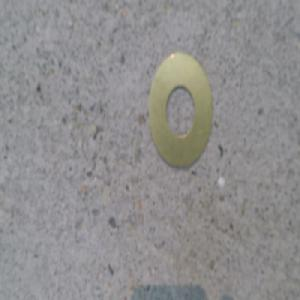Washer: (148, 51, 213, 171)
